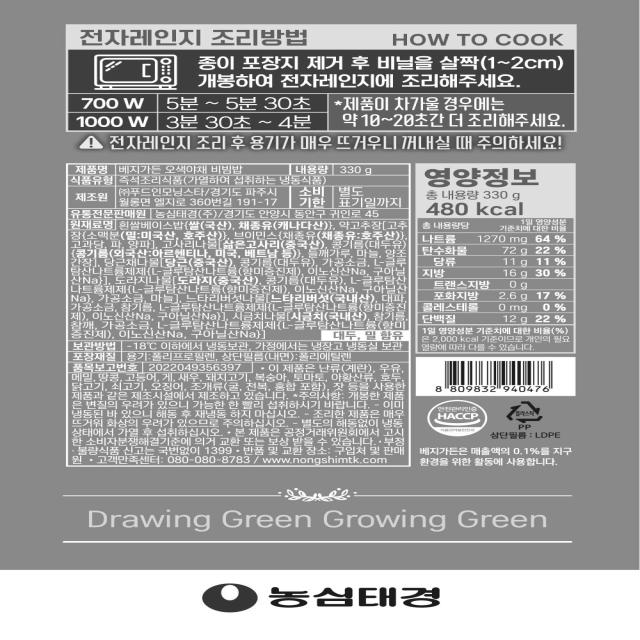Nutrition Label: (414, 159, 578, 355)
